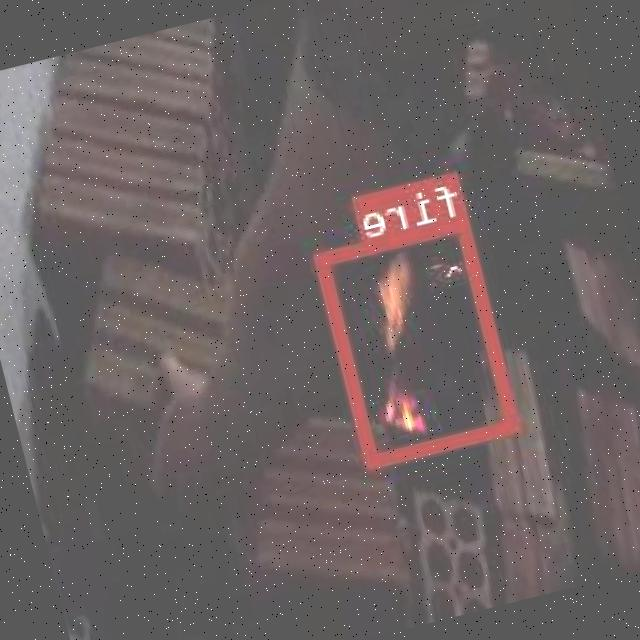fire: (316, 214, 522, 466)
